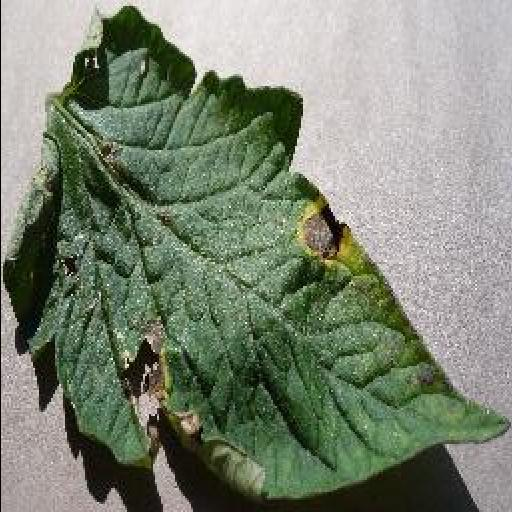Early Blight: (5, 14, 511, 500)
